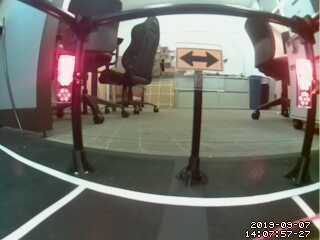Left_Right_sign: (176, 46, 225, 73)
Traffic_light_red: (294, 57, 313, 110), (56, 49, 73, 102)
